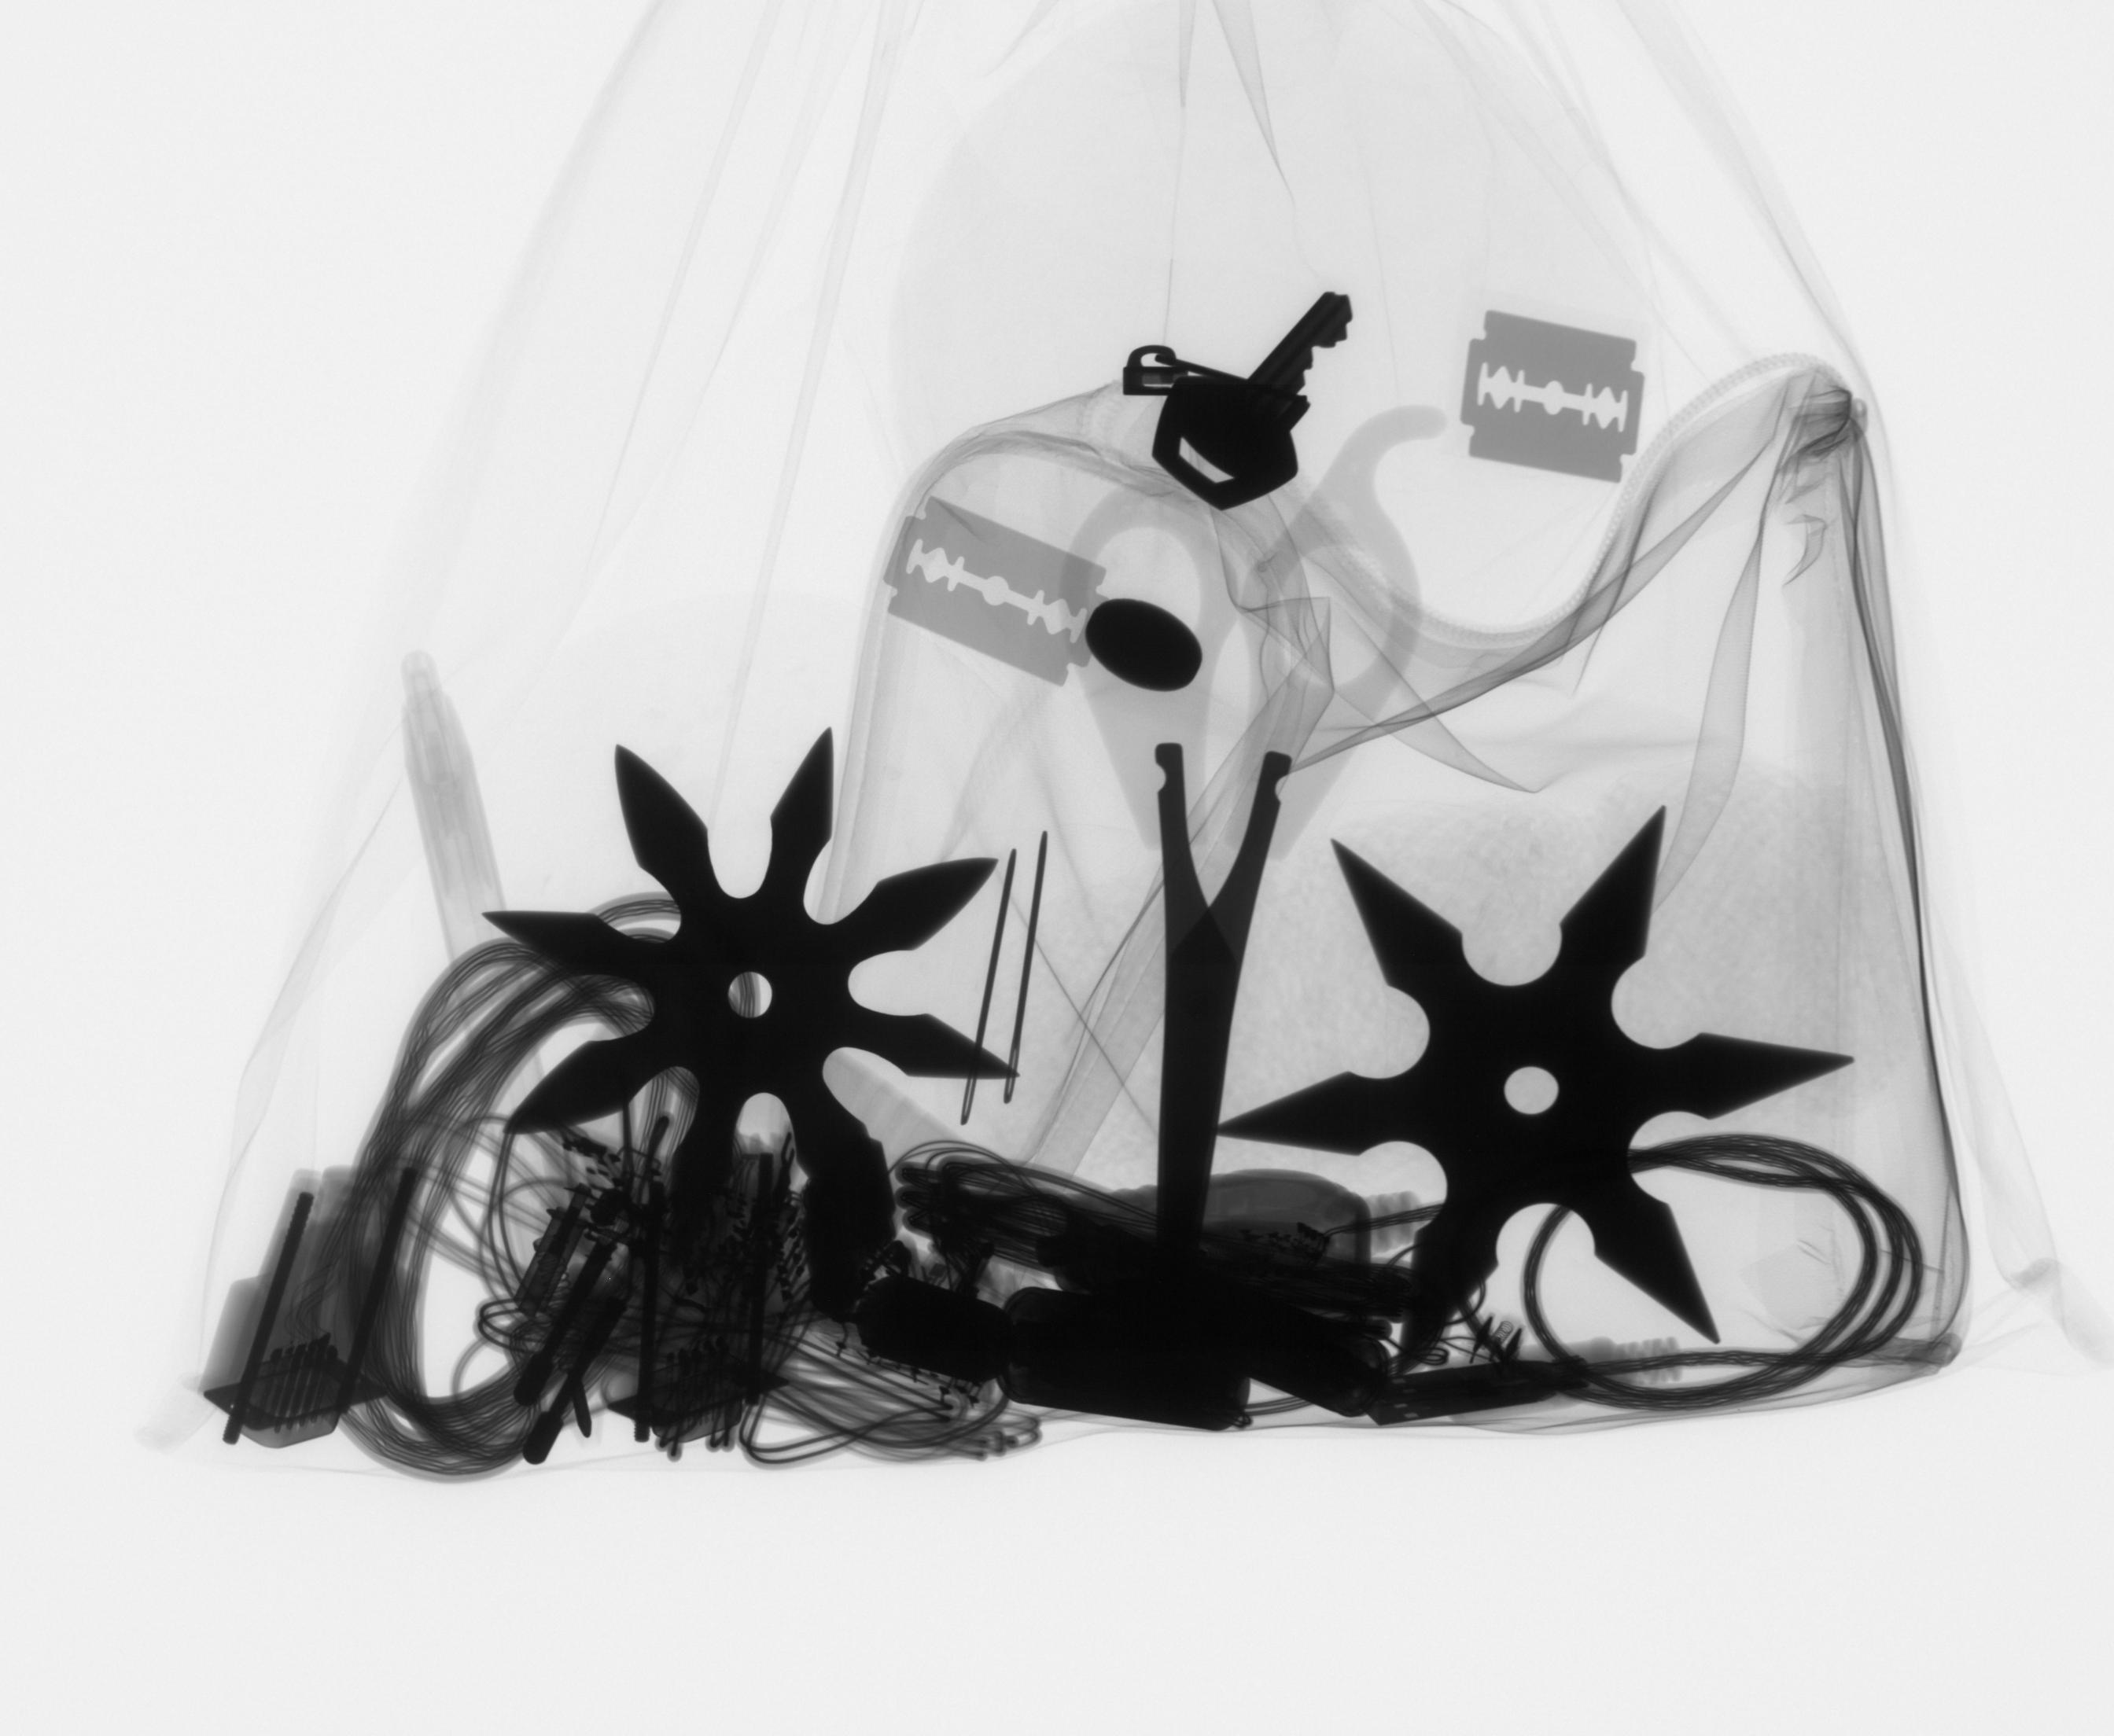RazorBlade: (1442, 293, 1659, 507), (874, 495, 1103, 686)
Shuriken: (1213, 807, 1887, 1394), (483, 707, 1041, 1225)
